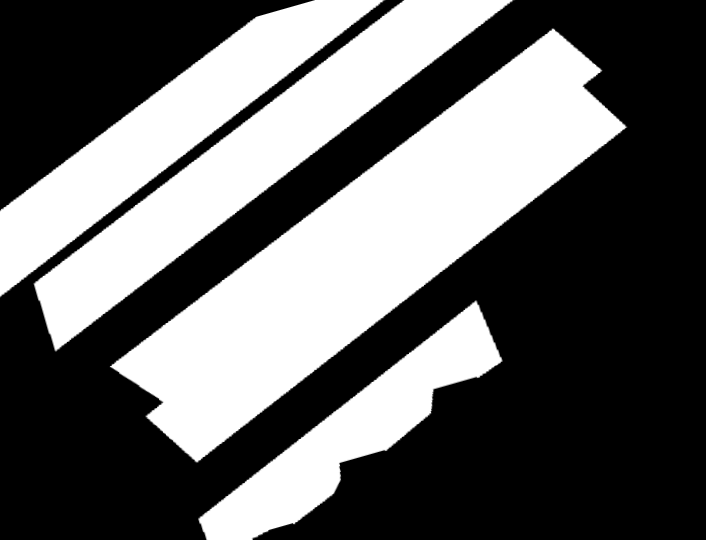parkingspot: (110, 29, 627, 462), (34, 0, 513, 351), (0, 0, 384, 297), (198, 301, 502, 540)
